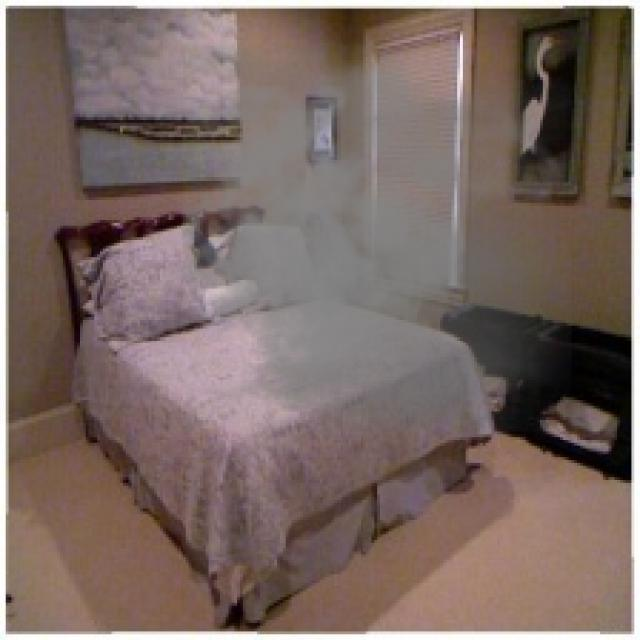Smoke: (168, 43, 572, 440)
